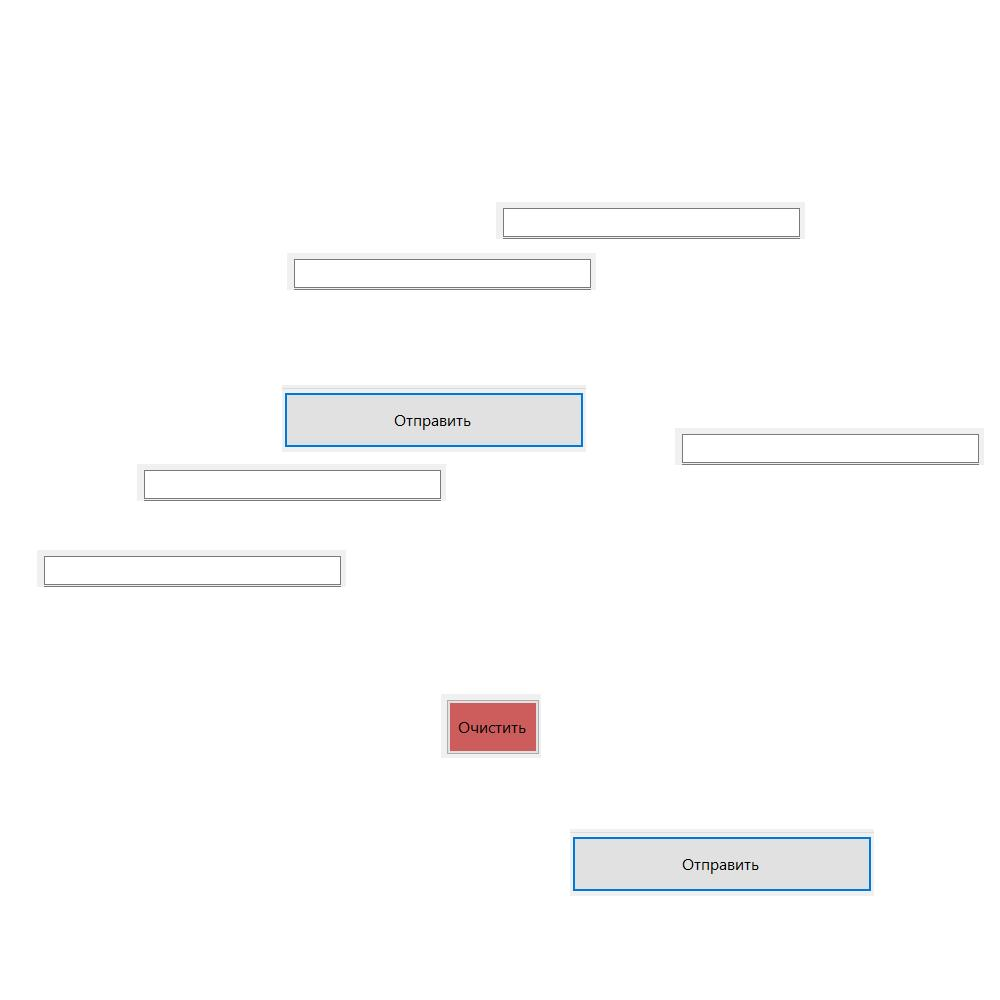Button: (570, 829, 874, 896), (282, 385, 586, 452), (441, 694, 541, 758)
EditText-: (137, 464, 446, 501), (37, 550, 346, 587), (287, 253, 596, 290), (675, 428, 984, 465), (496, 202, 805, 239)
